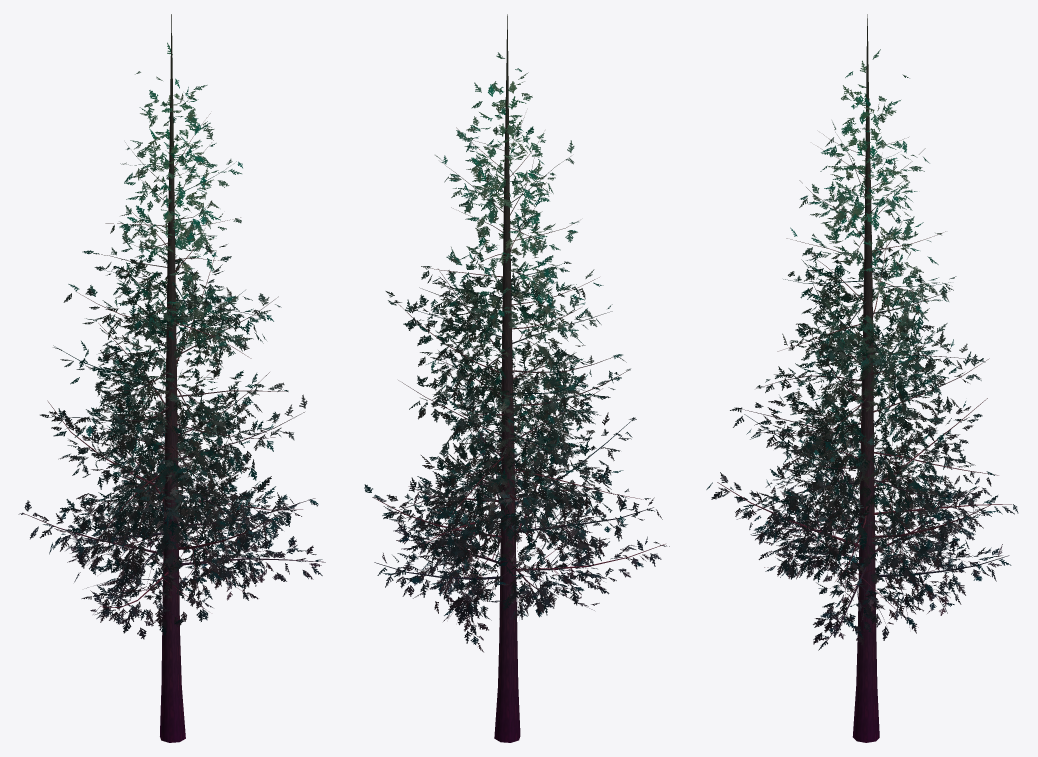
3 renders of one model, left to right at view 1: azimuth 30°, elevation 25°; view 2: azimuth 150°, elevation 25°; view 3: azimuth 270°, elevation 25°, orthographic.
Parts seen in each view (by area): view 1: douglas_fir_LOD1; view 2: douglas_fir_LOD1; view 3: douglas_fir_LOD1.
Part boxes in pixels (box(x1,y1,x2,y2)): douglas_fir_LOD1: box(18, 14, 325, 742); douglas_fir_LOD1: box(364, 14, 669, 742); douglas_fir_LOD1: box(706, 14, 1018, 742).
Size of the model in its own units: 12.65 by 32.63 by 13.09.
Materials: 2 (2 with a texture image).
